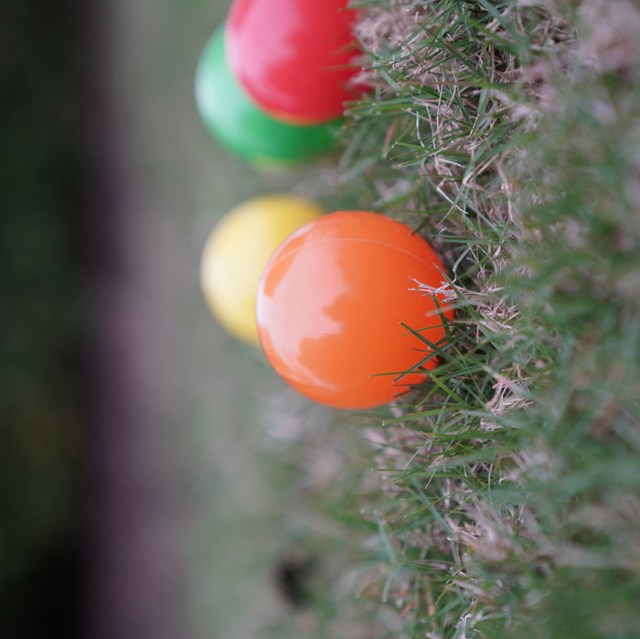Ball: (227, 1, 382, 118)
